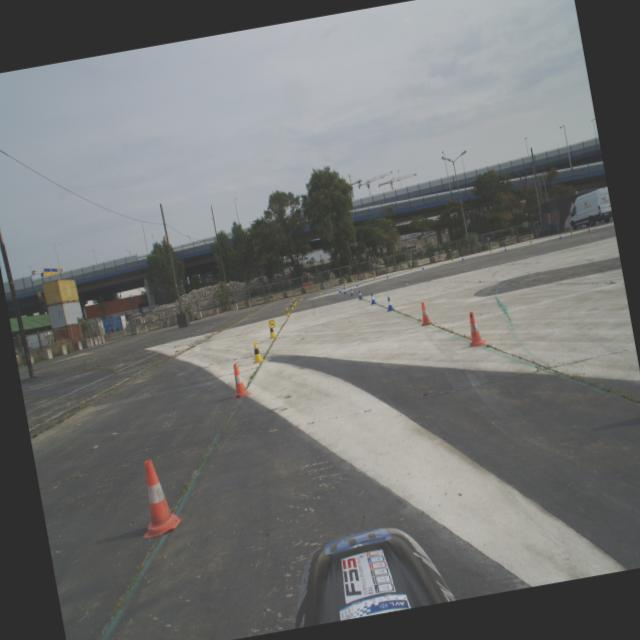blue_cone: (384, 296, 394, 310), (369, 292, 376, 304), (357, 289, 362, 299), (349, 288, 354, 296), (342, 287, 347, 294), (558, 232, 562, 238), (338, 286, 341, 292), (385, 272, 388, 278), (421, 264, 424, 270), (355, 281, 358, 286), (461, 255, 464, 260), (504, 246, 506, 251)
orange_cone: (128, 455, 184, 538), (463, 310, 486, 348), (227, 362, 250, 398), (417, 300, 432, 326), (588, 225, 592, 232)
yellow_cone: (250, 341, 264, 364), (266, 322, 277, 338), (268, 319, 275, 328), (284, 306, 290, 316), (288, 302, 294, 310), (292, 298, 296, 306), (293, 298, 297, 304), (298, 294, 302, 300), (318, 289, 322, 294), (343, 282, 346, 288), (373, 274, 376, 280), (529, 238, 532, 244), (489, 248, 492, 253), (410, 266, 413, 270), (451, 256, 454, 260), (570, 229, 572, 234)
